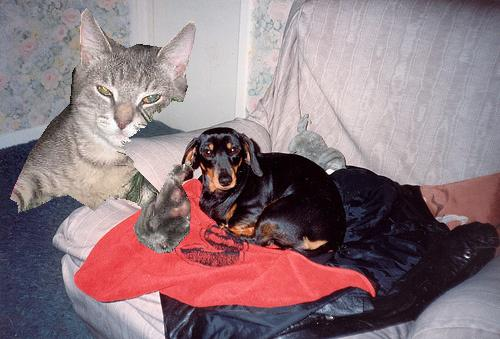tampered: (11, 9, 196, 253)
